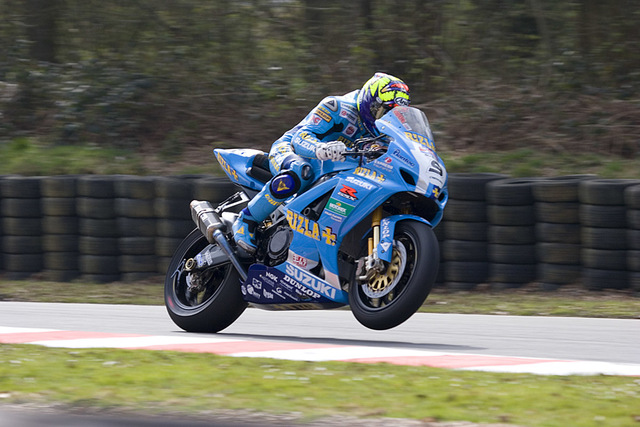helmet: (355, 65, 414, 122)
